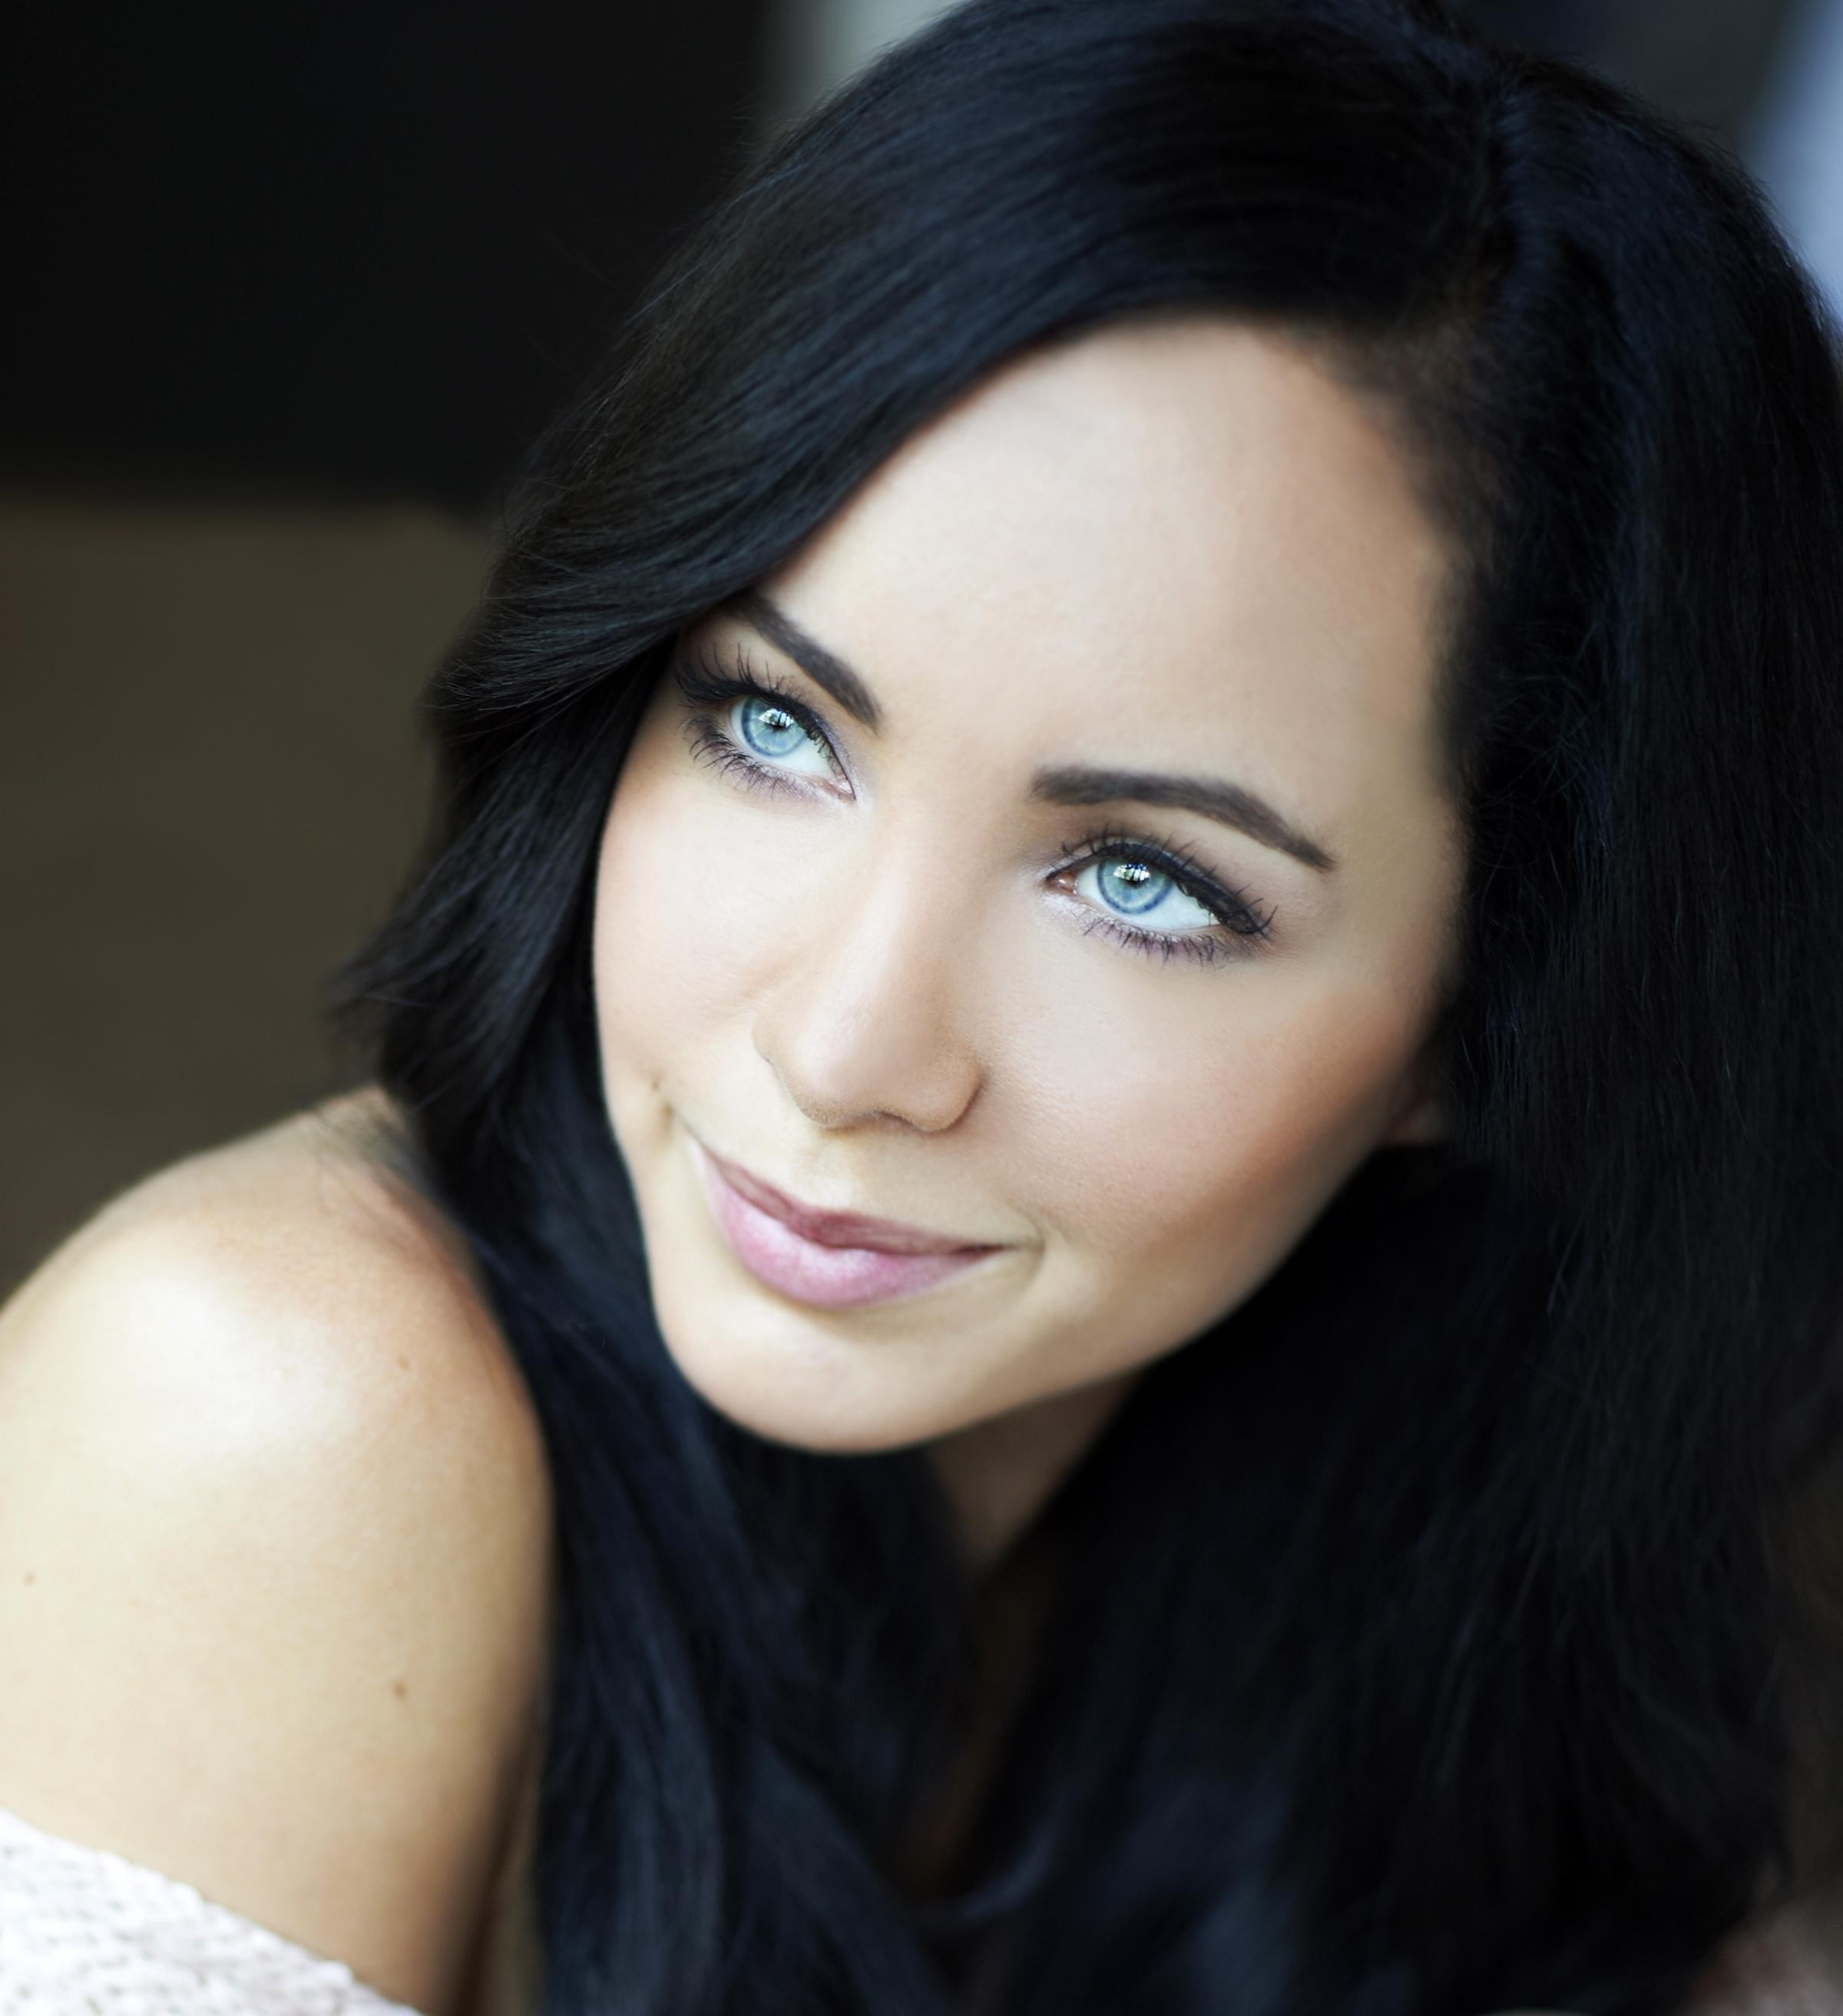face_no_mask: (516, 20, 1676, 1517)
